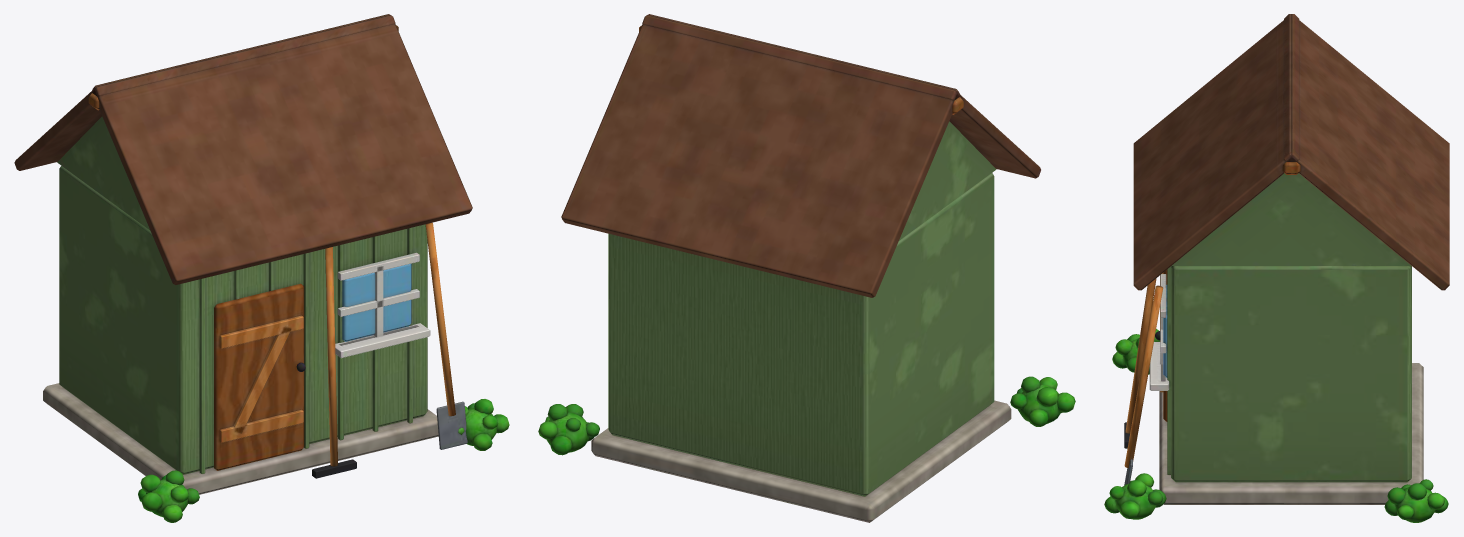
File: tool_shed.glb
The picture shows the model from 3 angles, left to right: view 1: azimuth 30°, elevation 25°; view 2: azimuth 150°, elevation 25°; view 3: azimuth 270°, elevation 25°; orthographic projection. The views are drawn at different scales.
Parts seen in each view (by area): view 1: tool_shed; view 2: tool_shed; view 3: tool_shed.
Boxes of the visible parts, x1,y1,x2,y2 form: tool_shed: [14, 14, 509, 522]; tool_shed: [538, 14, 1075, 522]; tool_shed: [1104, 14, 1449, 522].
Bounding box in the file's own units: 1.06 × 1.03 × 0.8885.
1 material, 1 textured.
